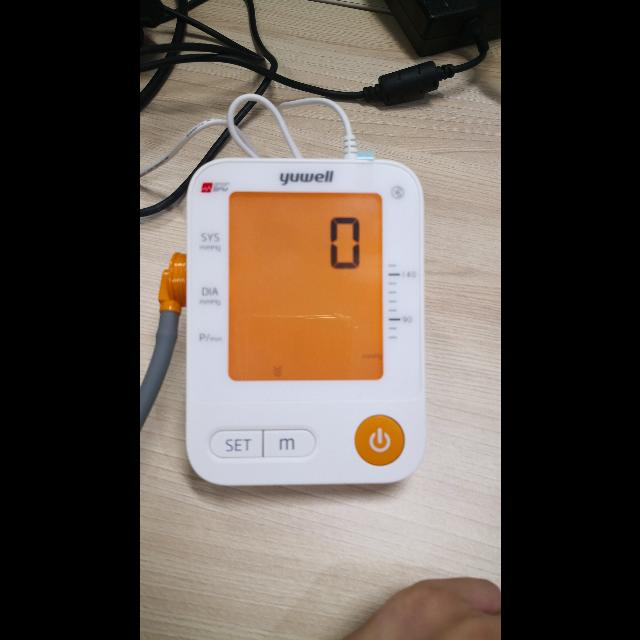Blood-Pressure-Monitor: (184, 158, 426, 486)
